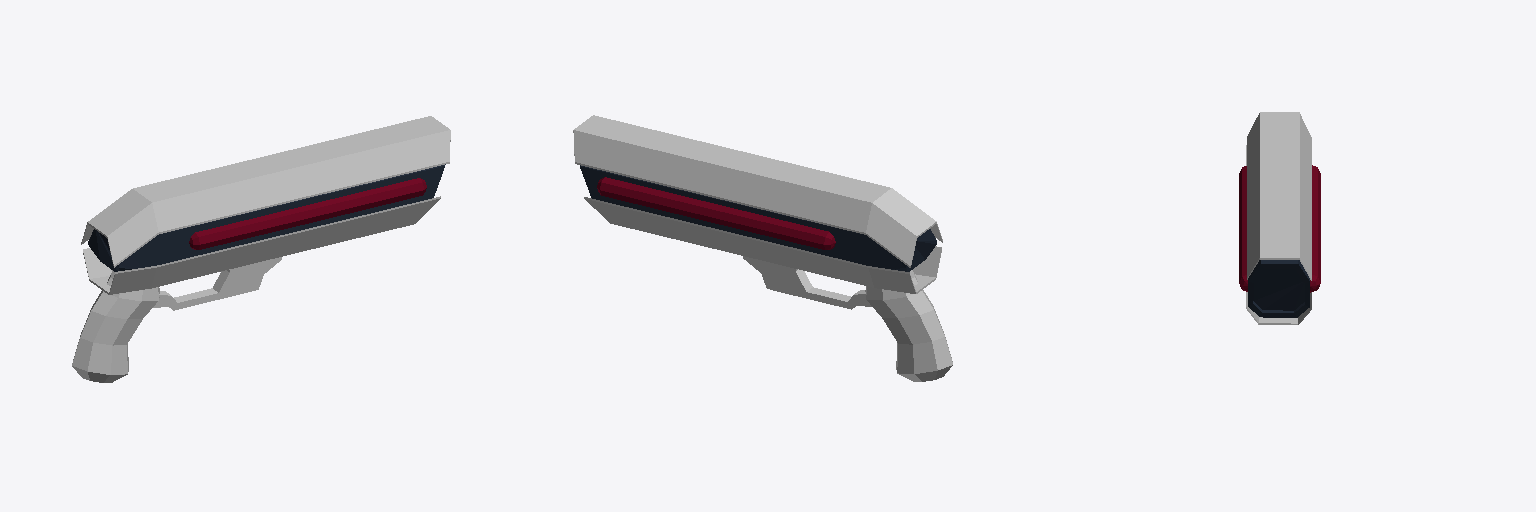
File: PISTOLONROJO.obj
3 renders of one model, left to right at view 1: azimuth 30°, elevation 25°; view 2: azimuth 150°, elevation 25°; view 3: azimuth 270°, elevation 25°, orthographic.
Visible parts, largest first — view 1: Cylinder.003, Cylinder.004, Cylinder.002, Cylinder.005, Sphere.001, Cube_Cube.003; view 2: Cylinder.003, Cylinder.004, Cylinder.002, Cylinder.005, Sphere, Cube_Cube.003; view 3: Cylinder.003, Cylinder.002, Sphere, Sphere.001, Cylinder.004.
Boxes of the visible parts, x1,y1,x2,y2 form: Cylinder.003: [81, 116, 450, 267]; Cylinder.004: [83, 196, 440, 294]; Cylinder.002: [88, 164, 445, 271]; Cylinder.005: [72, 270, 159, 382]; Sphere.001: [189, 178, 426, 249]; Cube_Cube.003: [153, 257, 281, 310]; Cylinder.003: [573, 115, 942, 267]; Cylinder.004: [584, 197, 941, 293]; Cylinder.002: [580, 165, 936, 271]; Cylinder.005: [865, 270, 952, 381]; Sphere: [597, 177, 835, 249]; Cube_Cube.003: [743, 256, 871, 309]; Cylinder.003: [1247, 112, 1311, 280]; Cylinder.002: [1248, 260, 1309, 317]; Sphere: [1310, 165, 1320, 292]; Sphere.001: [1239, 166, 1247, 291]; Cylinder.004: [1246, 145, 1311, 324].
Size of the model in its own units: 2.61 by 1.2 by 0.5014.